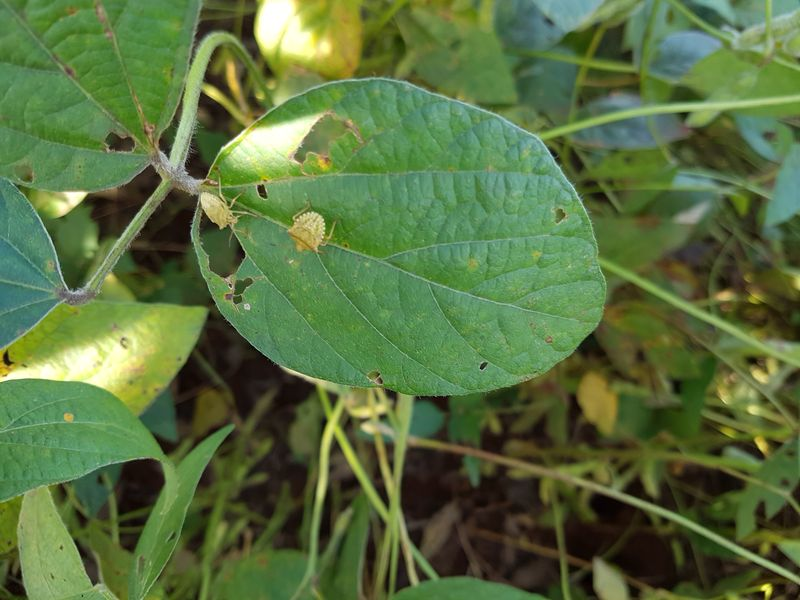Euschistus_heros_ninfa: (183, 164, 267, 252), (278, 191, 346, 265)
